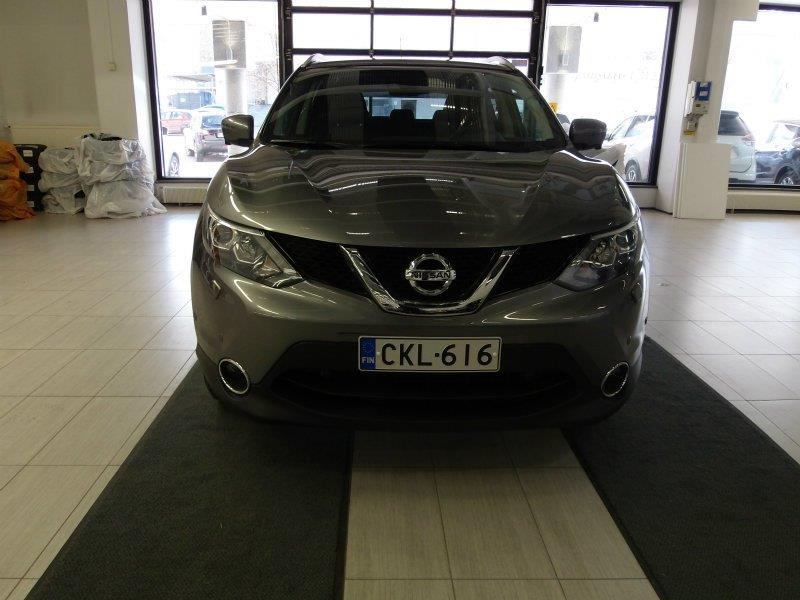license: (358, 339, 500, 379)
